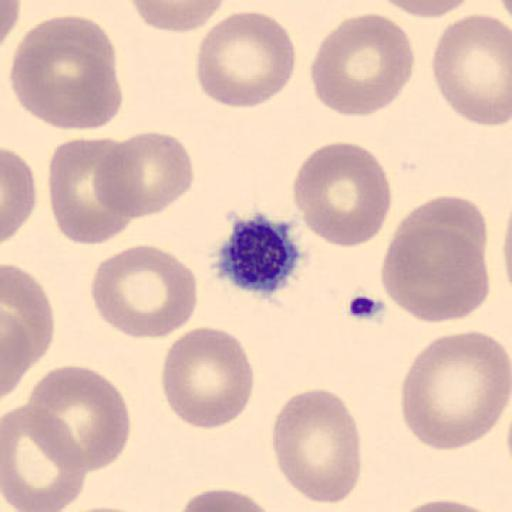Platelet: (210, 211, 304, 295)
RBC: (399, 329, 511, 451), (8, 13, 122, 132), (25, 363, 131, 473), (309, 12, 415, 118), (380, 222, 490, 324), (270, 387, 363, 506), (292, 140, 392, 249), (90, 243, 199, 341), (194, 9, 297, 109), (160, 324, 255, 432), (47, 135, 135, 246), (2, 402, 89, 512), (431, 12, 512, 128), (94, 130, 195, 220), (397, 194, 490, 266), (2, 262, 55, 366), (1, 146, 37, 245), (128, 0, 228, 34), (1, 309, 33, 400), (178, 488, 280, 512), (371, 0, 477, 18), (392, 496, 500, 512), (0, 0, 21, 55), (502, 203, 512, 303), (1, 0, 23, 41), (56, 503, 150, 512), (499, 0, 512, 37)
